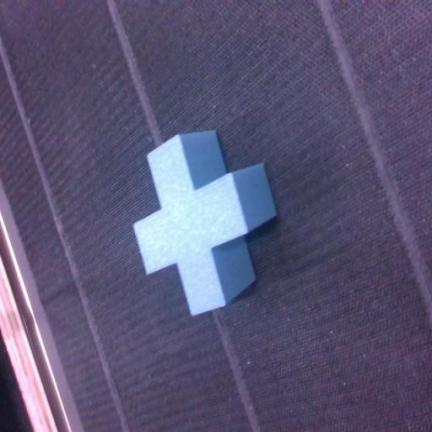cross: (134, 132, 275, 314)
